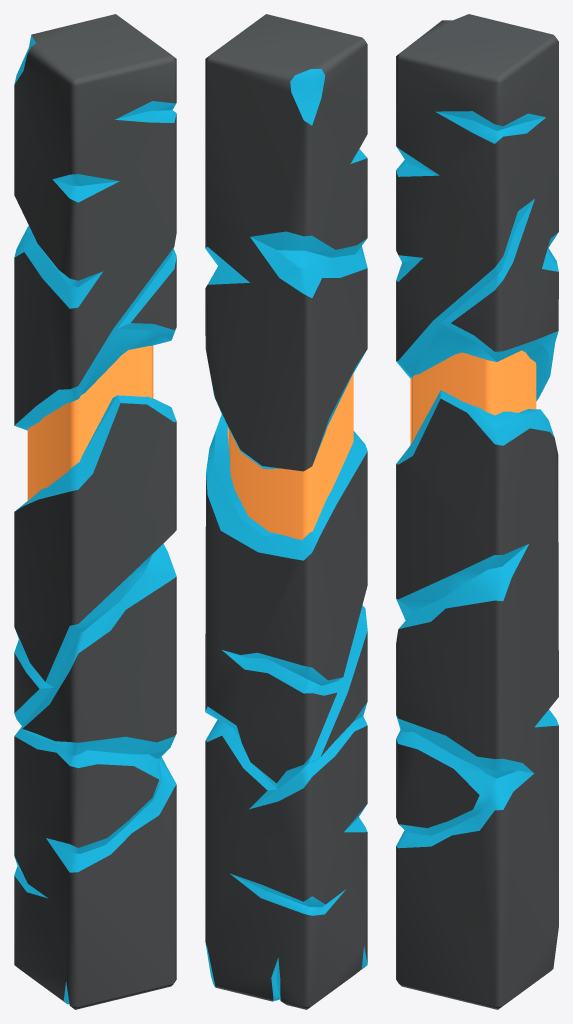
Rendered from pillar_002.glb.
The picture shows the model from 3 angles, left to right: view 1: azimuth 30°, elevation 25°; view 2: azimuth 150°, elevation 25°; view 3: azimuth 330°, elevation 25°; orthographic projection.
Parts seen in each view (by area): view 1: pillar_002; view 2: pillar_002; view 3: pillar_002.
Part boxes in pixels (x1,y1,x2,y2): pillar_002: (14, 14, 176, 1009); pillar_002: (205, 14, 367, 1009); pillar_002: (396, 14, 558, 1009).
Bounding box in the file's own units: 2 × 16.65 × 2.
Materials: 3 (3 with a texture image).
